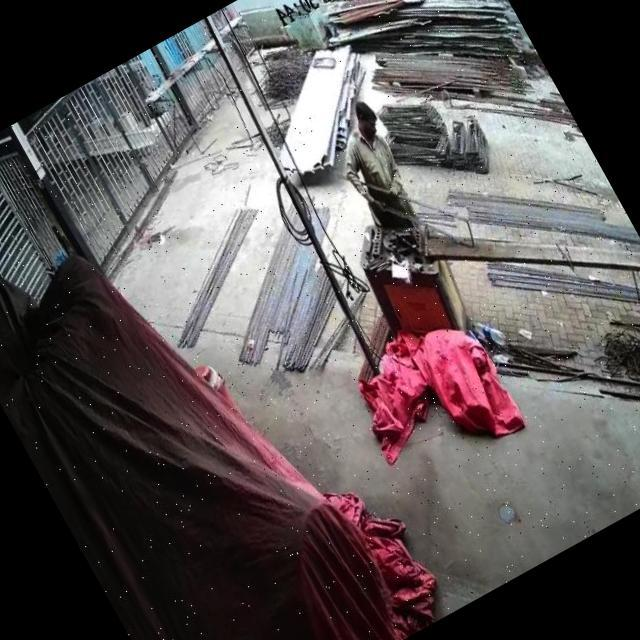person: (317, 90, 433, 240)
